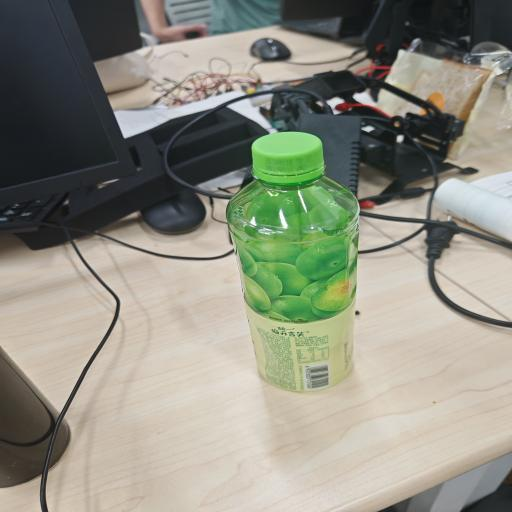mouse: (140, 190, 206, 234), (250, 38, 290, 60)
